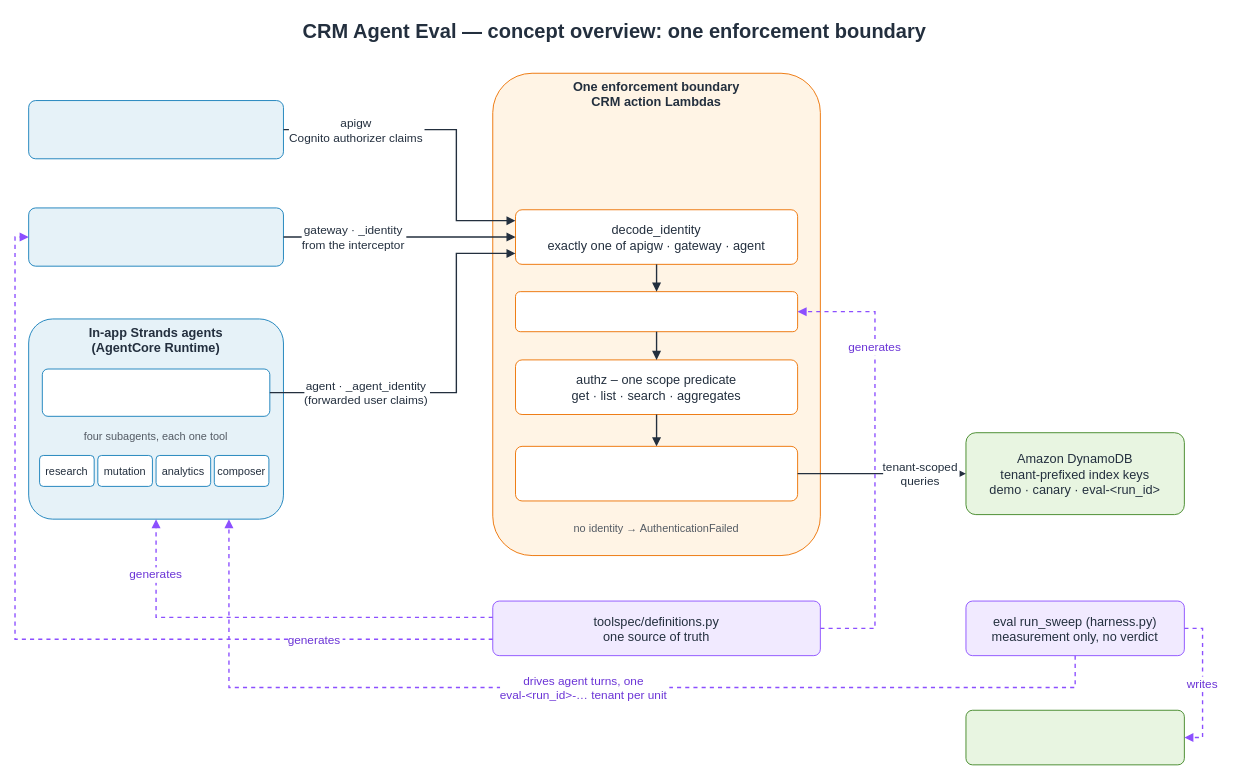
The diagram is 1235 pixels wide and 780 high, and some of its shapes have lost their labels. The shapes that lost their labels are listed below. From the top down, each one's centre as x and y in pixels, then its label:
At [155,129]: "React SPA served from S3 via CloudFront CloudFront → private REST API".
At [155,236]: "External MCP clients AgentCore Gateway (MCP tool definitions)".
At [656,311]: "input validator".
At [155,392]: "supervisor – one chat turn direct read tools + agent tool registry".
At [656,473]: "handlers → store.py sole DynamoDB caller".
At [1074,737]: "results/*.json · md · csv rendered by matrix.py".
